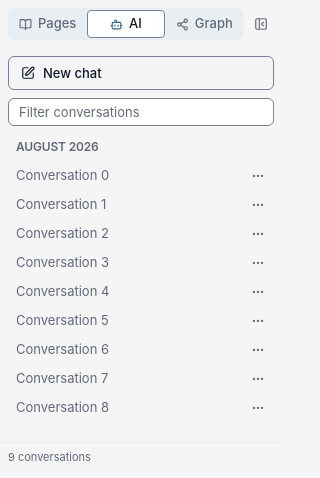
AiConversationsSidebar › reflects the active filter in the footer count, not the loaded total
Type "Conversation 3" into the field labelled "Filter conversations" at x=141, y=112, box [8,98,274,126]
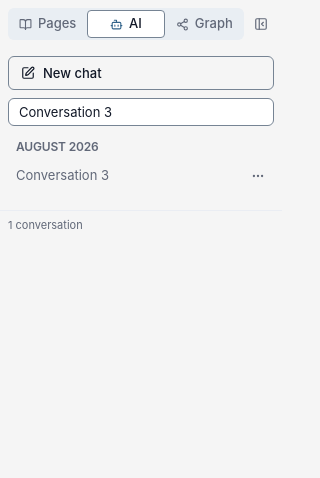
Expected: the text with test id "conversations-footer-count" reads "1 conversation", [8,218,83,232]
